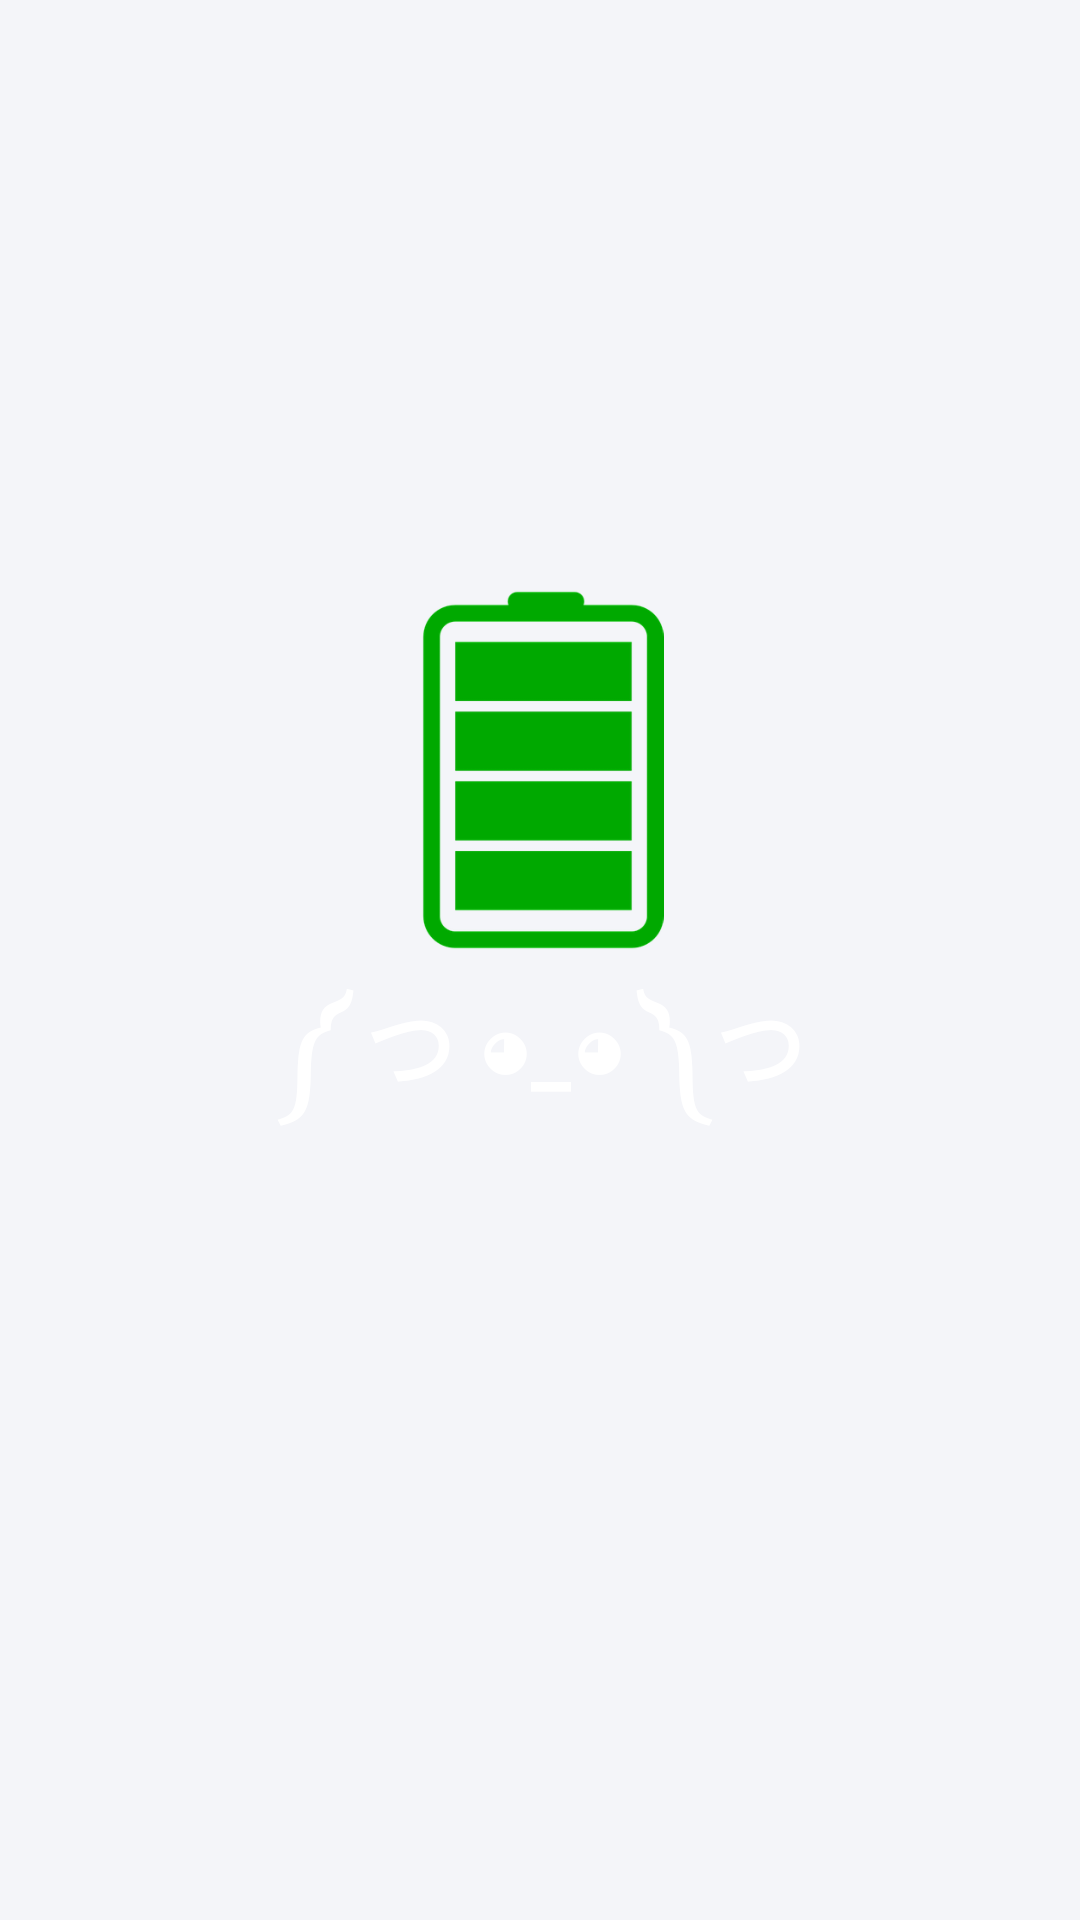

Icons on this 1080w x 1920h Android screen, each with its box as (x1, y1, x2, y2):
battery: (423, 591, 664, 949)
